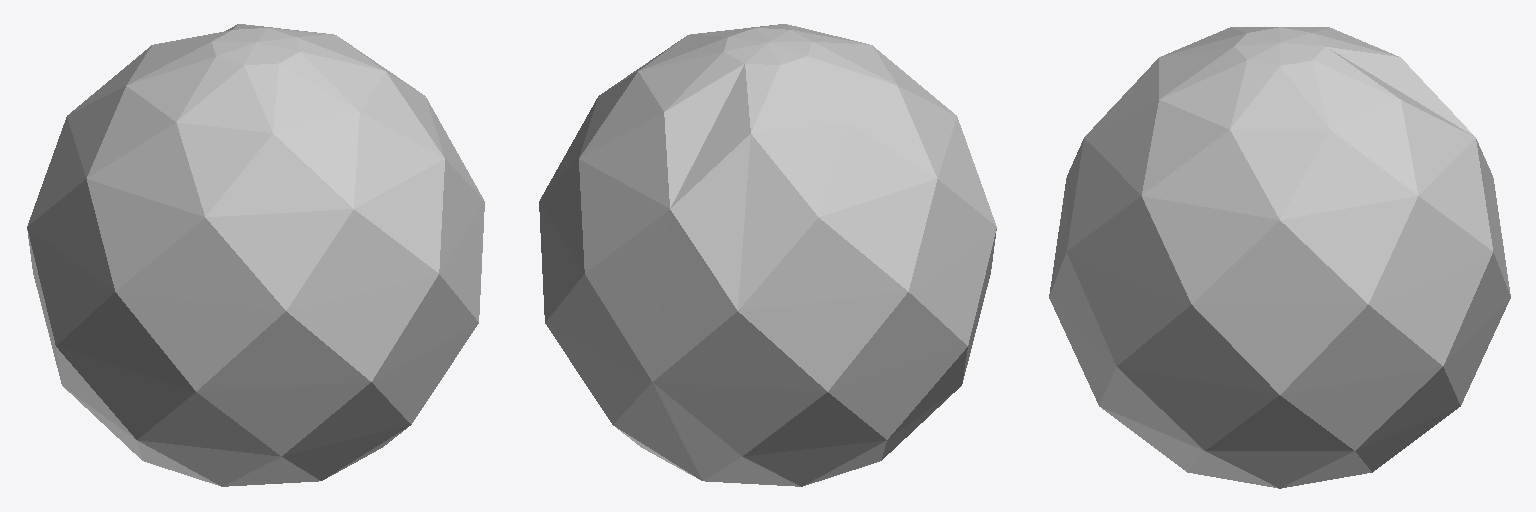
Rendered from sphere_decimated.obj.
3 views of the same model, side by side, from view 1: azimuth 30°, elevation 25°; view 2: azimuth 150°, elevation 25°; view 3: azimuth 270°, elevation 25° (orthographic).
Parts seen in each view (by area): view 1: Sphere; view 2: Sphere; view 3: Sphere.
Part boxes in pixels (x1,y1,x2,y2): Sphere: (27, 24, 484, 486); Sphere: (539, 24, 996, 486); Sphere: (1049, 27, 1510, 488).
Bounding box in the file's own units: 1.96 × 2 × 1.96.